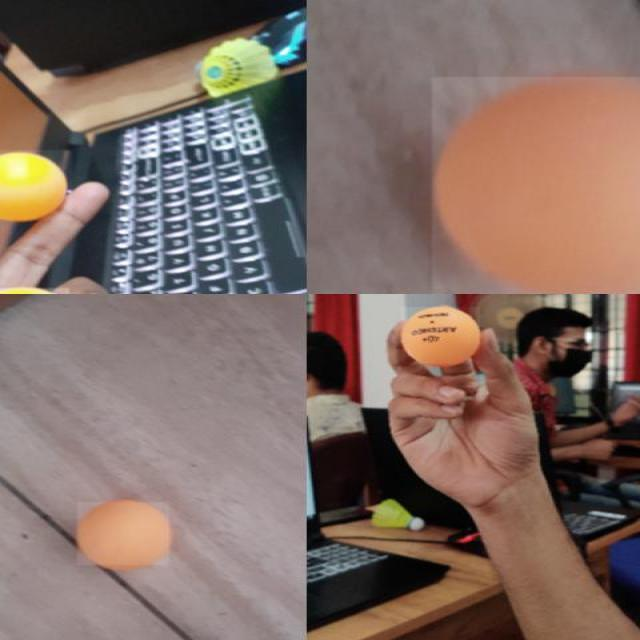ping-pong-ball: (432, 77, 639, 293), (77, 502, 171, 566), (0, 150, 75, 222), (402, 307, 482, 365)
